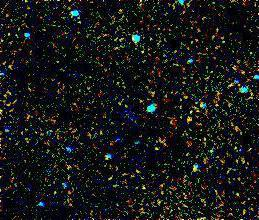star: (175, 102, 205, 132)
